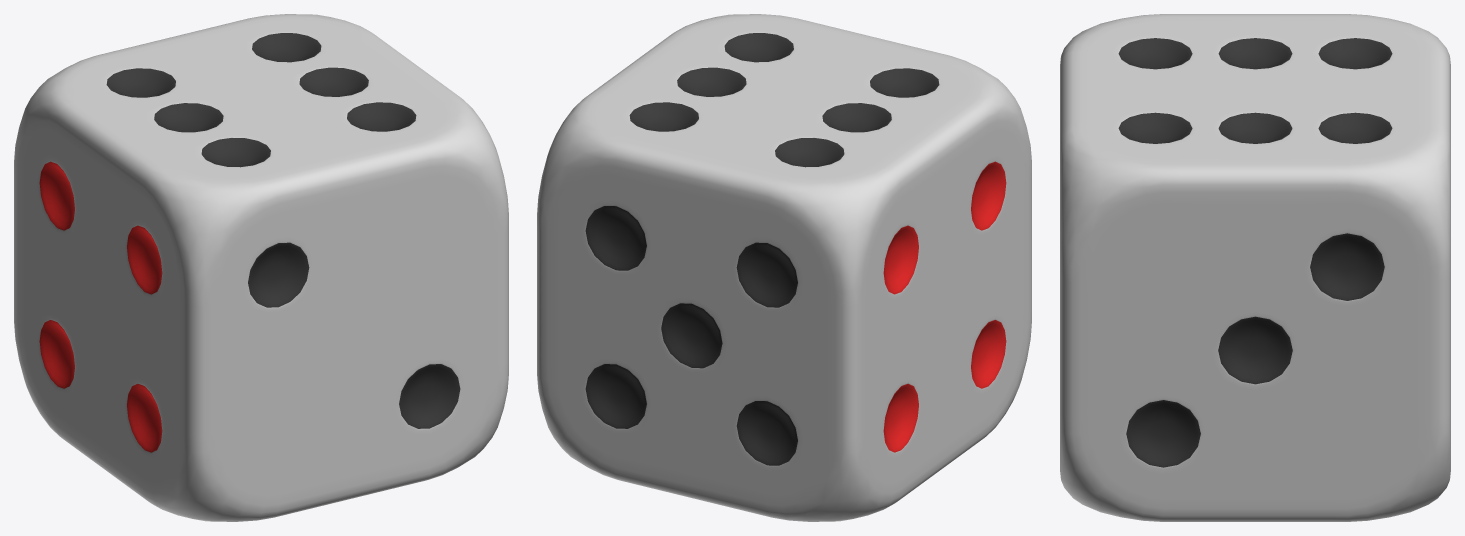
Rendered from dice.glb.
3 views of the same model, side by side, from view 1: azimuth 30°, elevation 25°; view 2: azimuth 150°, elevation 25°; view 3: azimuth 270°, elevation 25° (orthographic). The views are drawn at different scales.
Visible parts, largest first — view 1: 骰子2-材质, 骰子2-材质.1, 骰子2-材质.2; view 2: 骰子2-材质, 骰子2-材质.1, 骰子2-材质.2; view 3: 骰子2-材质, 骰子2-材质.1.
Part boxes in pixels (box(x1,y1,x2,y2)): 骰子2-材质: box(14, 14, 508, 521); 骰子2-材质.1: box(106, 33, 460, 428); 骰子2-材质.2: box(39, 161, 162, 452); 骰子2-材质: box(537, 14, 1031, 521); 骰子2-材质.1: box(585, 33, 939, 465); 骰子2-材质.2: box(883, 161, 1006, 452); 骰子2-材质: box(1060, 14, 1450, 521); 骰子2-材质.1: box(1118, 38, 1392, 467).
Size of the model in its own units: 1.19 by 1.19 by 1.19.
